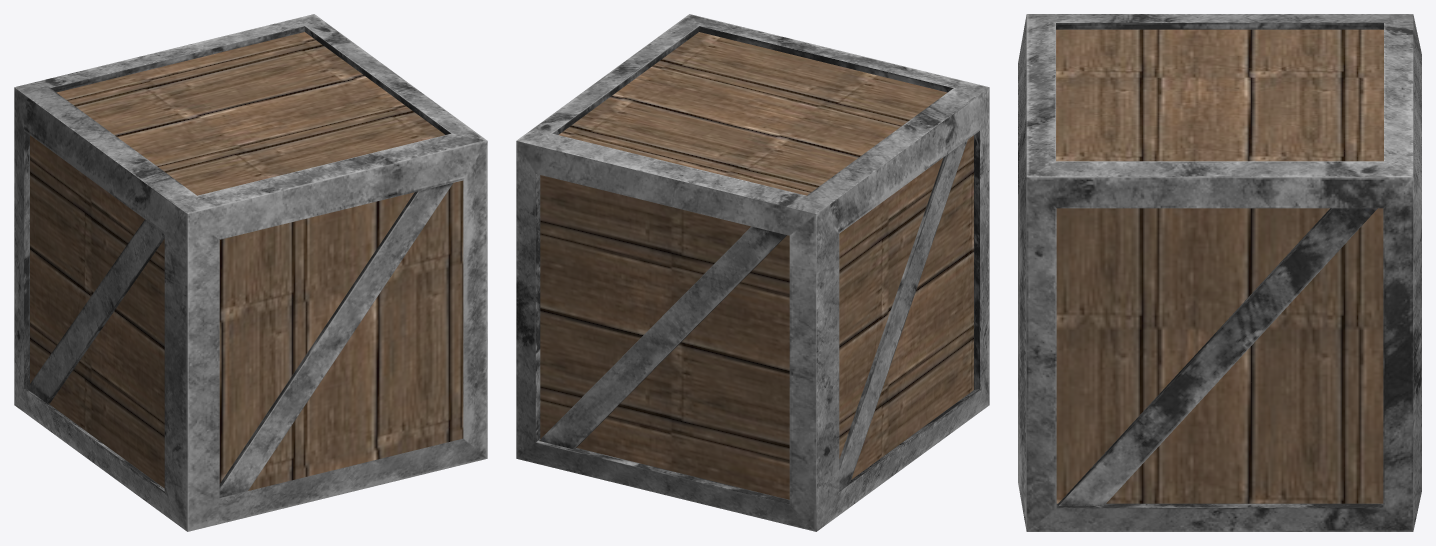
Rendered from box_metal.gltf.
3 renders of one model, left to right at view 1: azimuth 30°, elevation 25°; view 2: azimuth 150°, elevation 25°; view 3: azimuth 270°, elevation 25°, orthographic. The views are drawn at different scales.
Visible parts, largest first — view 1: wooden box and barrel.001; view 2: wooden box and barrel.001; view 3: wooden box and barrel.001.
Boxes of the visible parts, x1,y1,x2,y2 form: wooden box and barrel.001: (14,14,487,531); wooden box and barrel.001: (516,14,989,531); wooden box and barrel.001: (1018,14,1421,531).
Size of the model in its own units: 2 by 2 by 2.
Materials: 1 (1 with a texture image).
